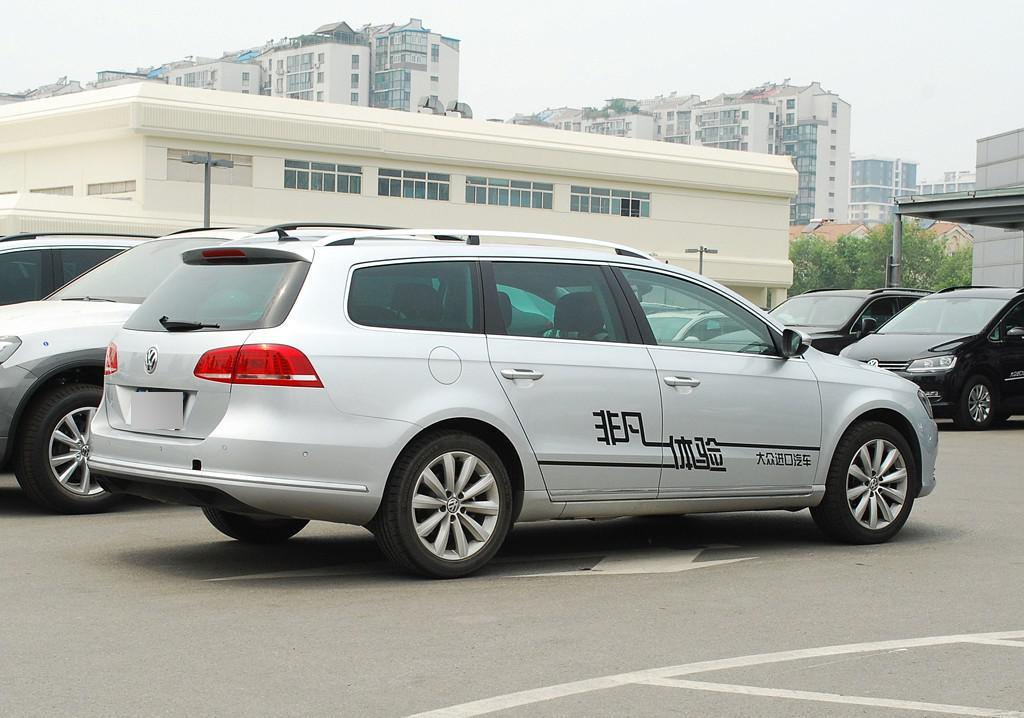Wagon: (88, 229, 941, 577)
